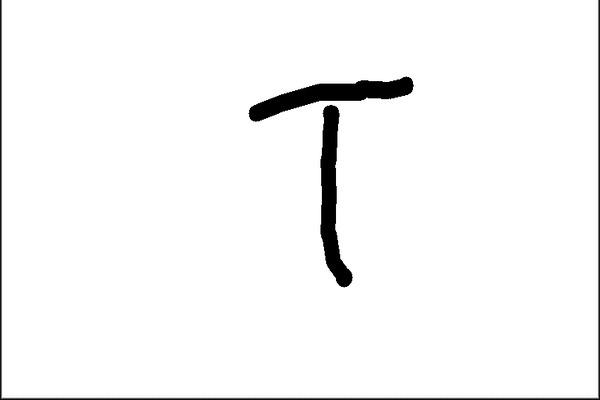T: (240, 67, 415, 289)
